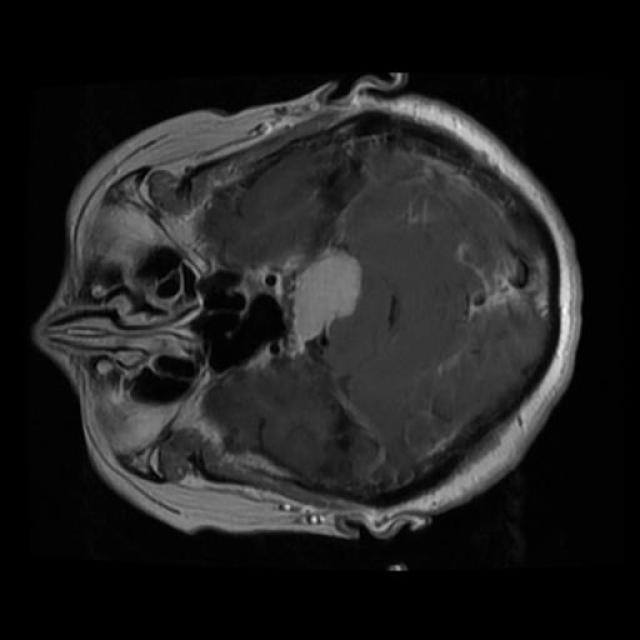Meningioma: (293, 250, 361, 351)
